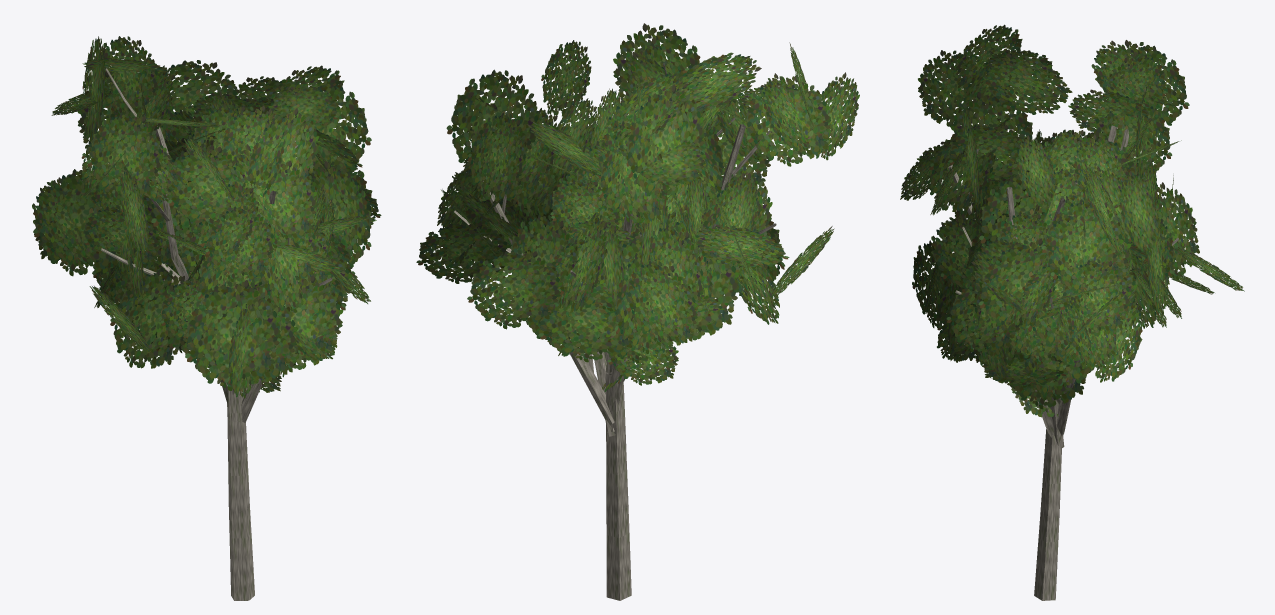
File: Tree_Beech_3_LOD1.gltf
3 renders of one model, left to right at view 1: azimuth 30°, elevation 25°; view 2: azimuth 150°, elevation 25°; view 3: azimuth 270°, elevation 25°, orthographic. The views are drawn at different scales.
Visible parts, largest first — view 1: Tree_Beech_3_LOD1; view 2: Tree_Beech_3_LOD1; view 3: Tree_Beech_3_LOD1.
Boxes of the visible parts, x1,y1,x2,y2 form: Tree_Beech_3_LOD1: (32, 36, 381, 600); Tree_Beech_3_LOD1: (416, 23, 859, 600); Tree_Beech_3_LOD1: (900, 24, 1244, 600).
Bounding box in the file's own units: 13.81 × 20.45 × 13.24.
Materials: 2 (2 with a texture image).
